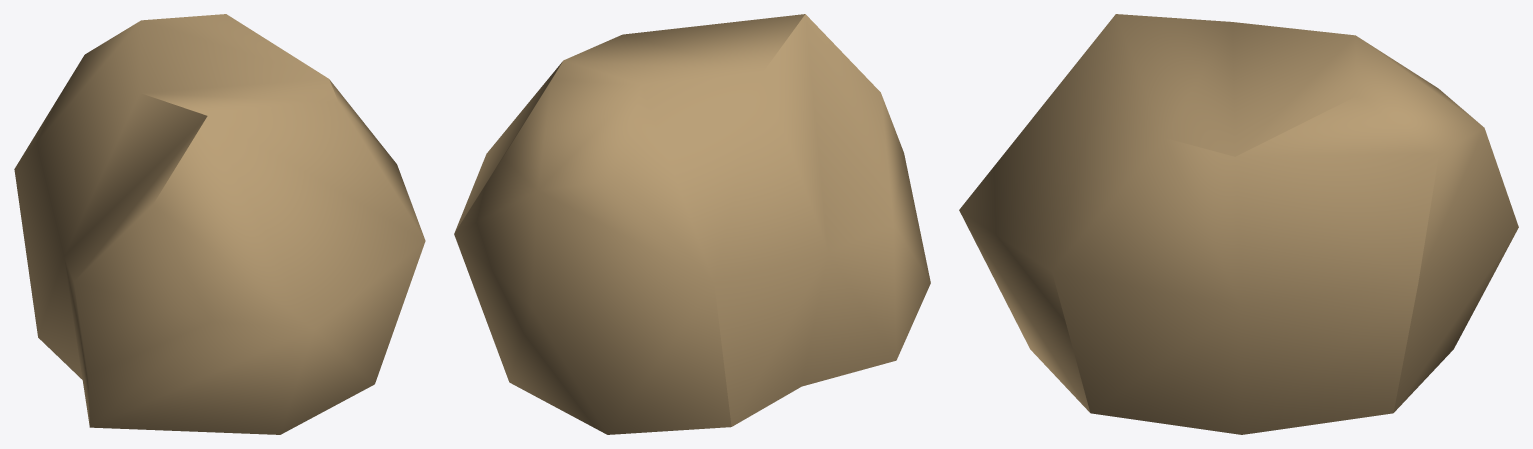
File: StoneD.fbx
3 views of the same model, side by side, from view 1: azimuth 30°, elevation 25°; view 2: azimuth 150°, elevation 25°; view 3: azimuth 270°, elevation 25° (orthographic). The views are drawn at different scales.
Parts seen in each view (by area): view 1: StoneD; view 2: StoneD; view 3: StoneD.
Part boxes in pixels (x1,y1,x2,y2): StoneD: (14, 14, 425, 434); StoneD: (454, 14, 930, 434); StoneD: (959, 14, 1518, 434).
Bounding box in the file's own units: 2.77 × 2.16 × 3.41.
